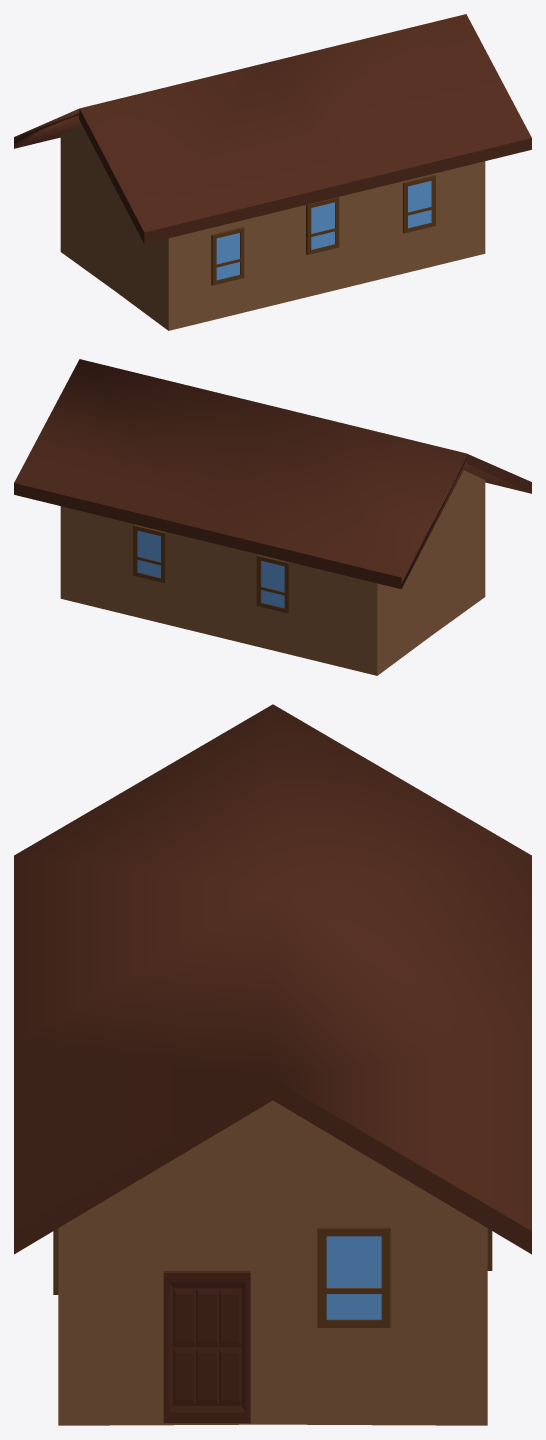
The model's file is Choza3.fbx.
3 views of the same model, one above another, from view 1: azimuth 30°, elevation 25°; view 2: azimuth 150°, elevation 25°; view 3: azimuth 270°, elevation 25° (orthographic). The views are drawn at different scales.
Parts seen in each view (by area): view 1: Choza3; view 2: Choza3; view 3: Choza3.
Boxes of the visible parts, bbox=[...] form: Choza3: bbox=[14, 14, 531, 330]; Choza3: bbox=[14, 359, 531, 675]; Choza3: bbox=[14, 704, 531, 1425].
Bounding box in the file's own units: 460 × 217 × 268.
